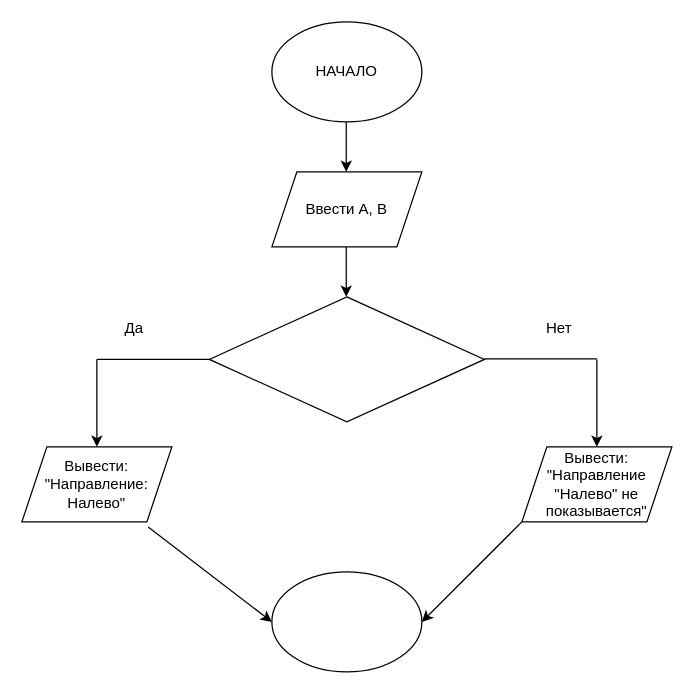
This 694x694 diagram has some shape labels left out. Each missing label, with the centre of its shape:
"(A % 2 == 0 && B % 2 != 0) || (A % 2 != 0 && B % 2 == 0)" goes at point (346, 359).
"КОНЕЦ" goes at point (346, 621).
